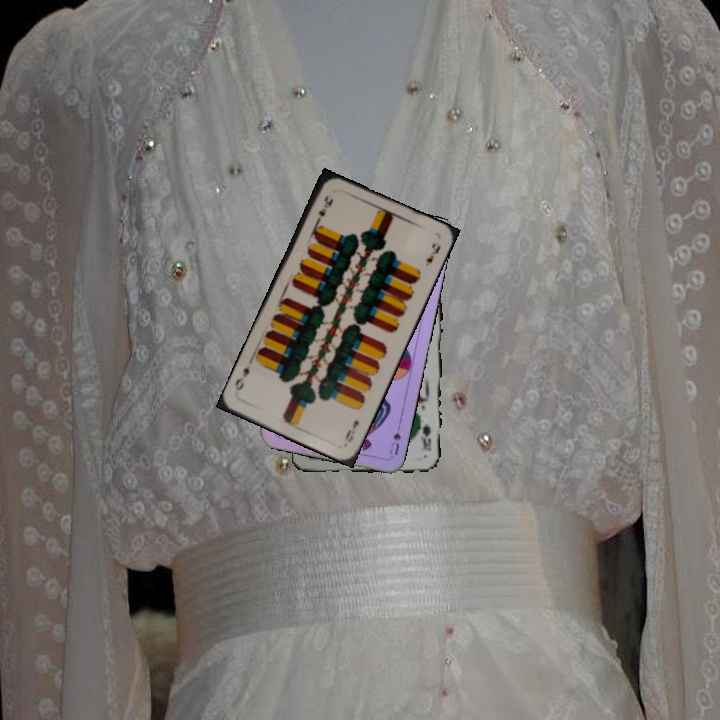E9: (341, 416, 362, 445), (314, 191, 335, 219)
GK: (416, 416, 433, 453)
SU: (385, 428, 403, 457)
